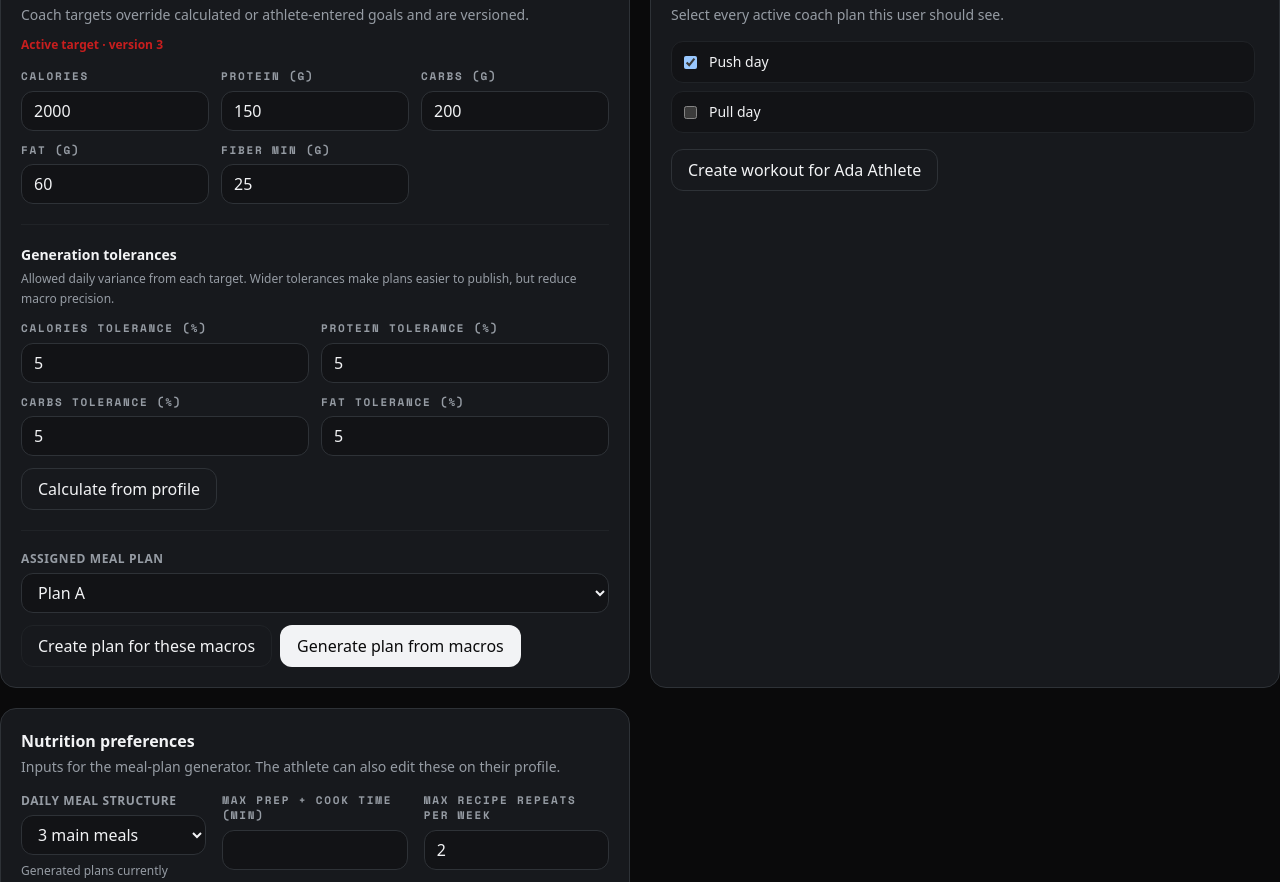
AthleteManagementPanel › rejects a tolerance outside the database 0–100 percent constraint
This screenshot has width=1280, height=882.
(page scrolled)
Replace the text in the number field labelled "Carbs tolerance (%)" with "101". click: (165, 436)
box: [21,416,309,456]
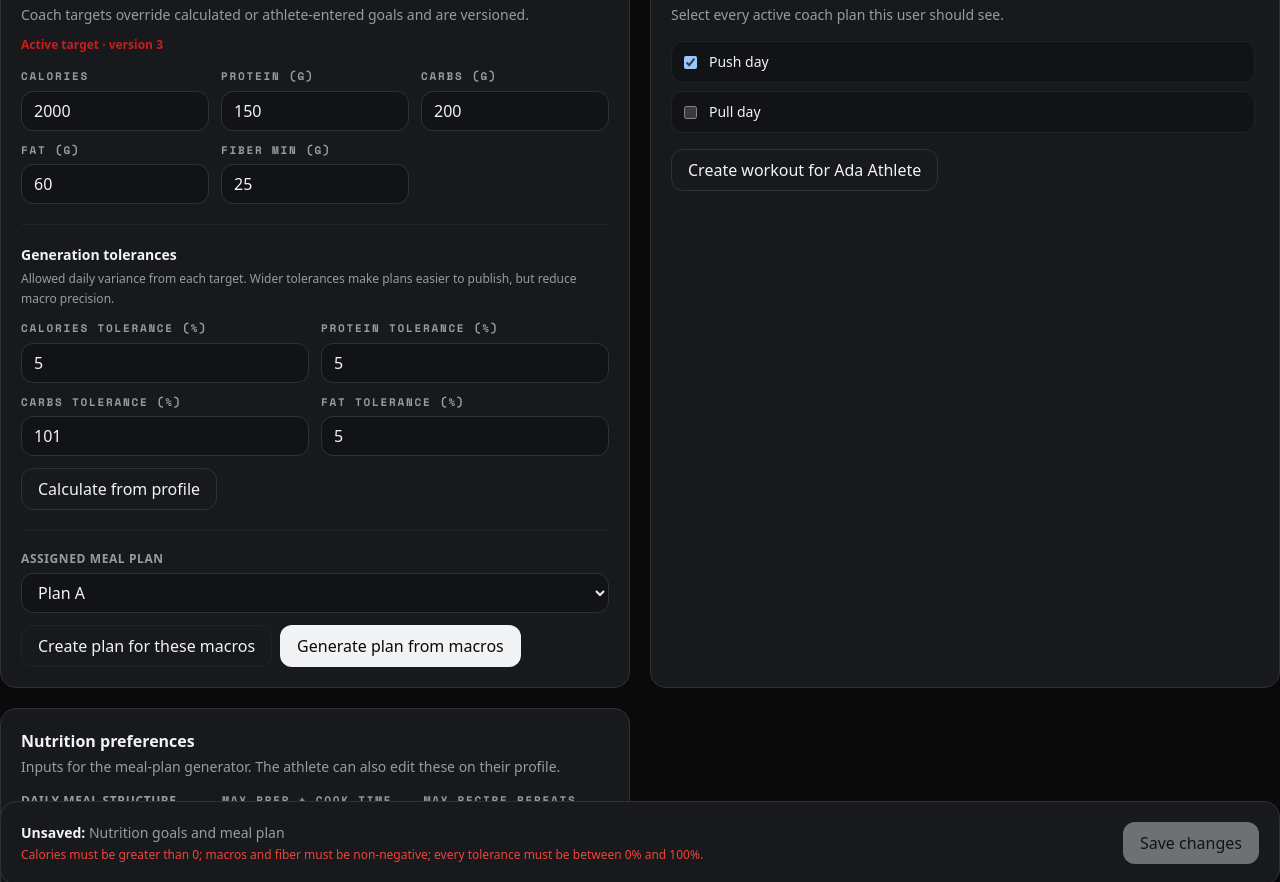
Check: the button "Save changes" is disabled, box [1123,822,1259,864]
Check: the text "every tolerance must be between 0% and 100%" is shown, box [21,846,703,863]
